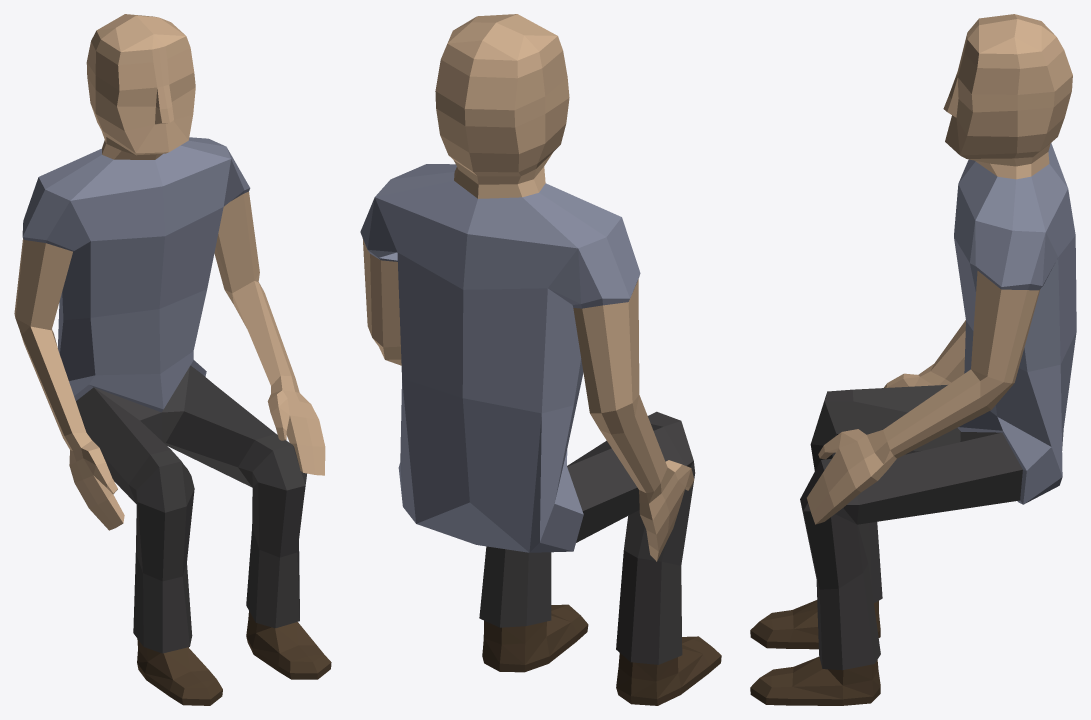
The model's file is Male_Sitting.glb.
3 views of the same model, side by side, from view 1: azimuth 30°, elevation 25°; view 2: azimuth 150°, elevation 25°; view 3: azimuth 270°, elevation 25° (orthographic). The views are drawn at different scales.
Parts seen in each view (by area): view 1: Male_Sitting; view 2: Male_Sitting; view 3: Male_Sitting.
Boxes of the visible parts, bbox=[...] form: Male_Sitting: bbox=[14, 14, 331, 705]; Male_Sitting: bbox=[360, 14, 721, 705]; Male_Sitting: bbox=[750, 14, 1076, 705].
Size of the model in its own units: 1.25 by 3.1 by 1.42.
